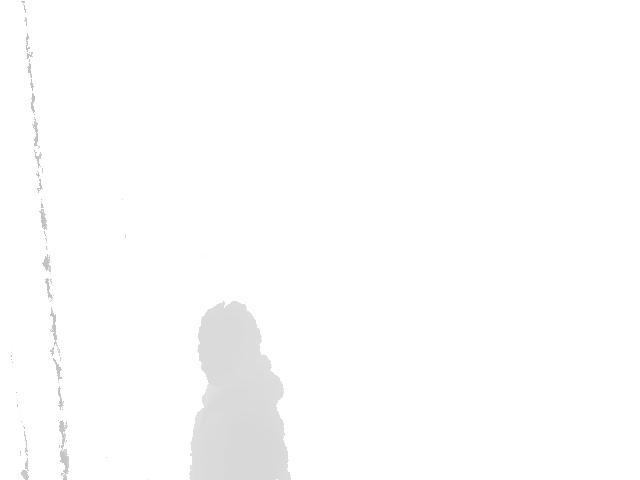head: (197, 300, 263, 393)
person: (188, 301, 292, 480)
